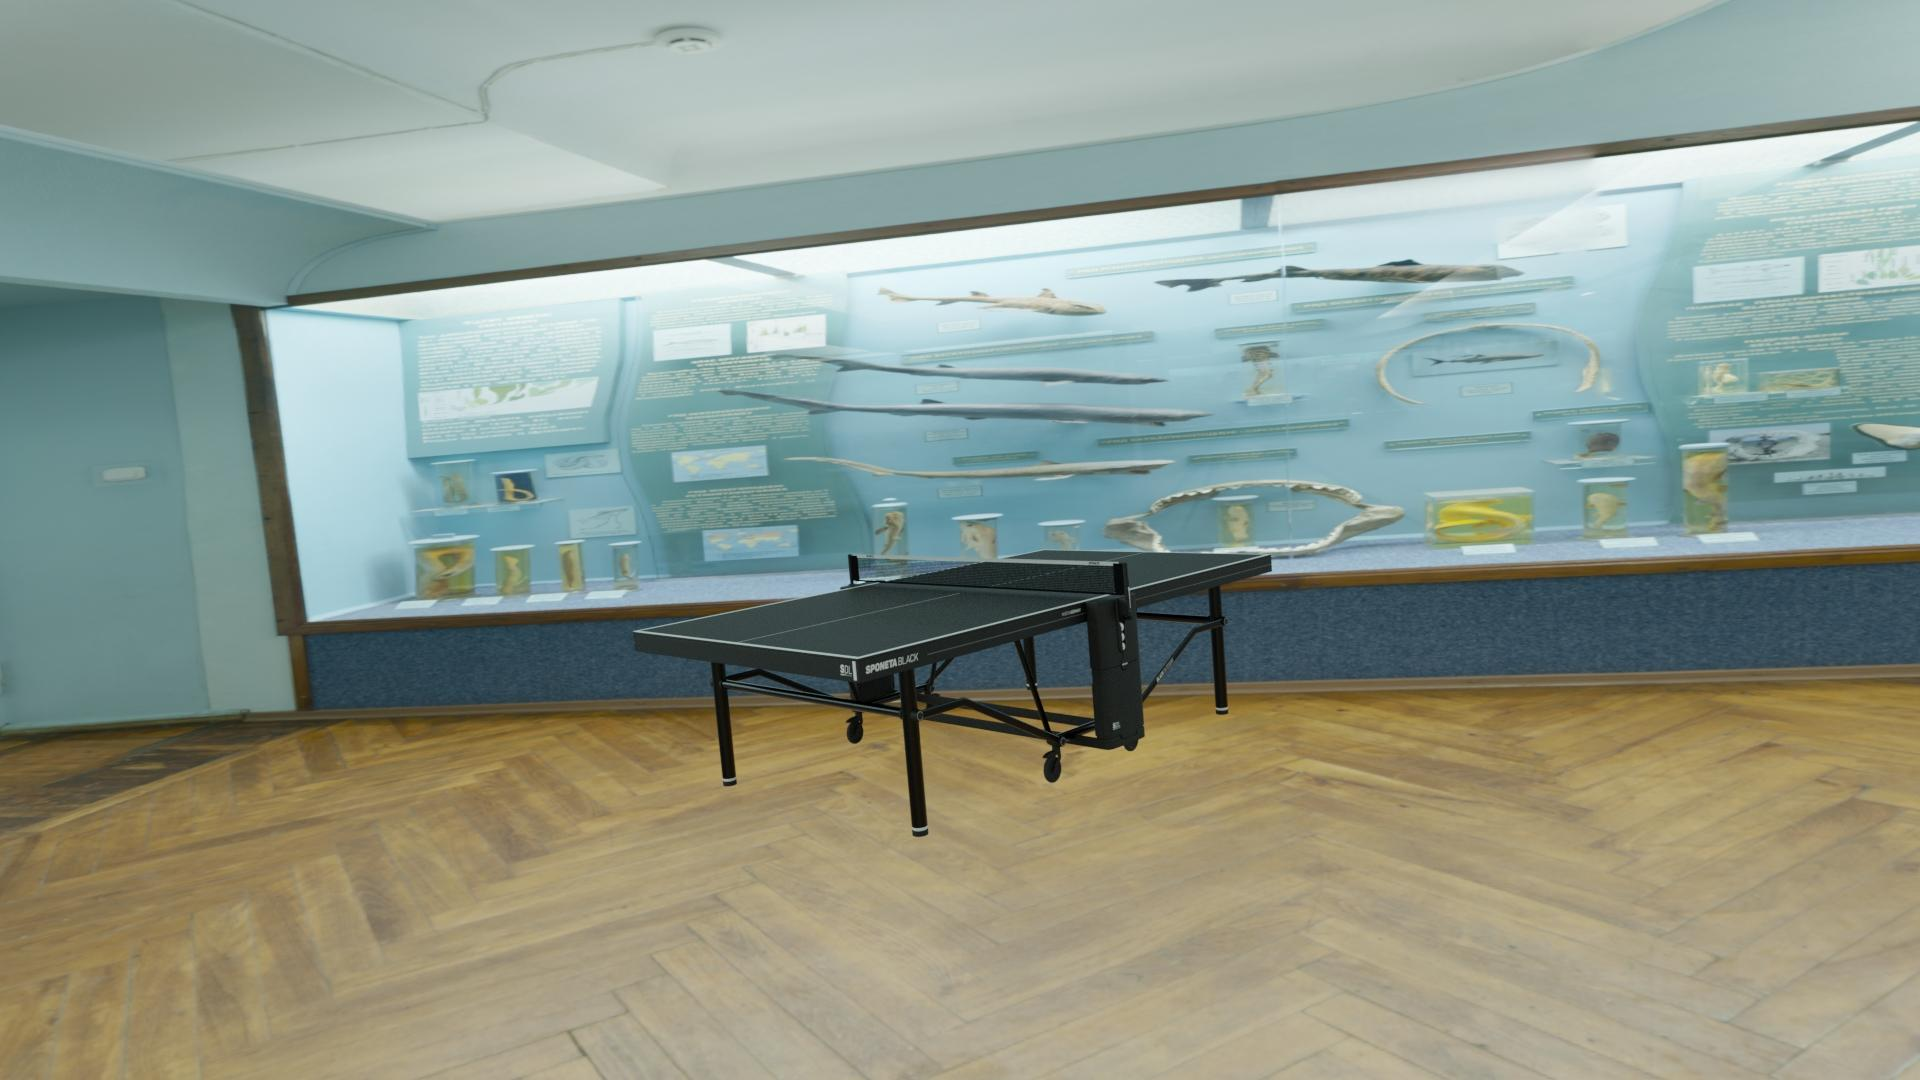table: (640, 550, 1266, 657)
